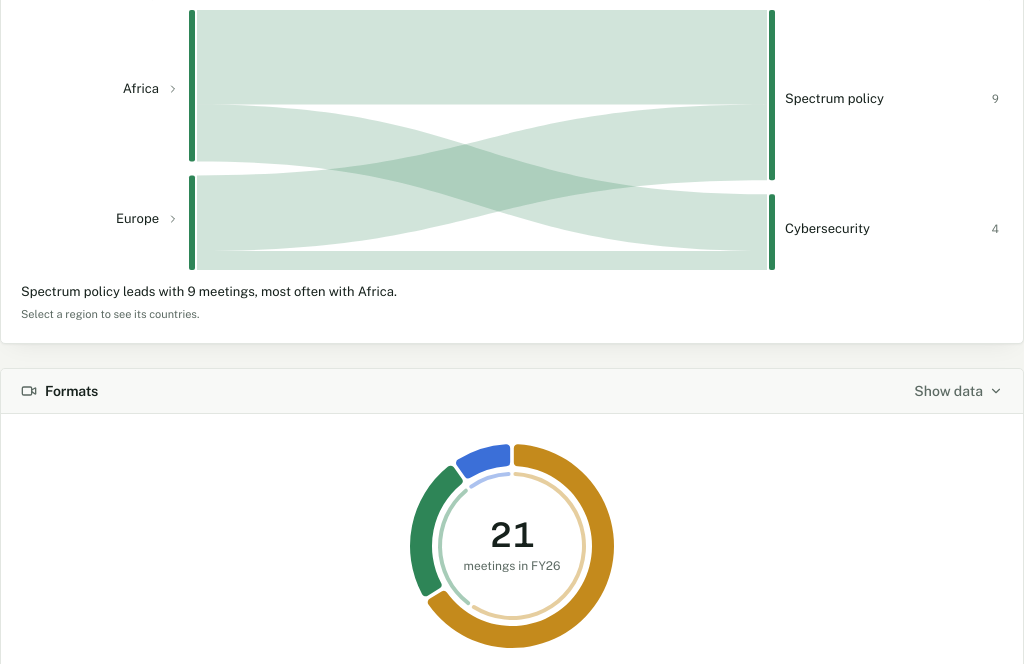
it: Analytics › carries the move since last year into the formats table, signed
This screenshot has width=1024, height=664.
Click the button "Show data" in the row of "Formats": x=959, y=390 [904,374,1013,406]
(page scrolled)
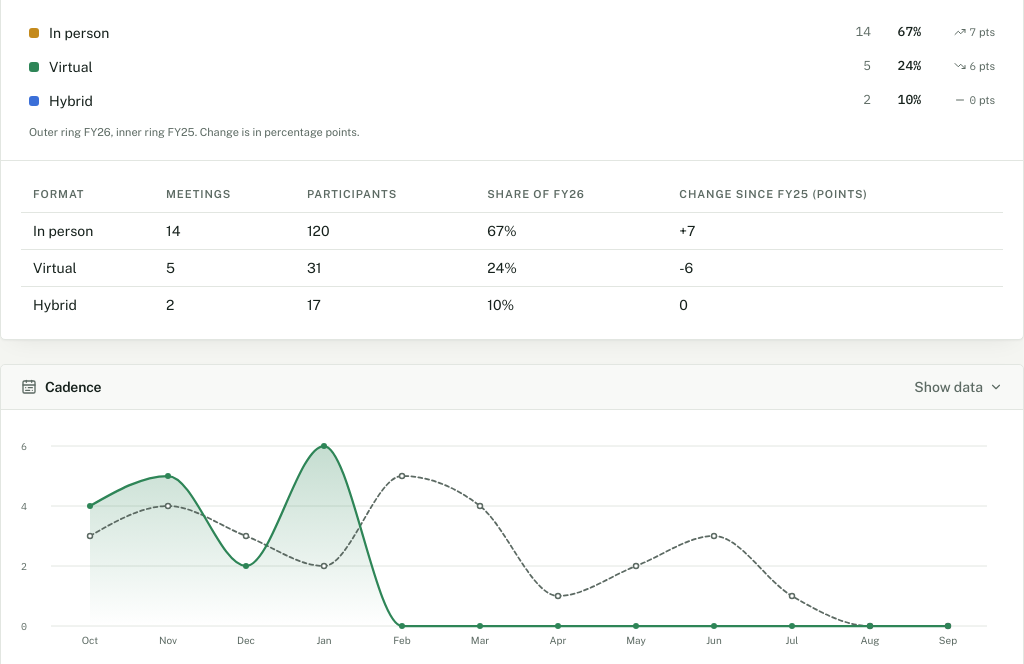
Now the column heading "Change since FY25 (points)" is shown, box [667,177,1003,213]
Now the row "In person 14 120 67% +7" is shown, box [21,213,1003,250]
Now the row "Virtual 5 31 24% -6" is shown, box [21,250,1003,287]
